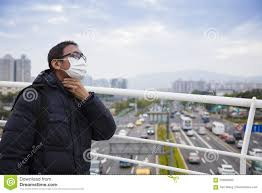masked: (42, 36, 92, 88)
